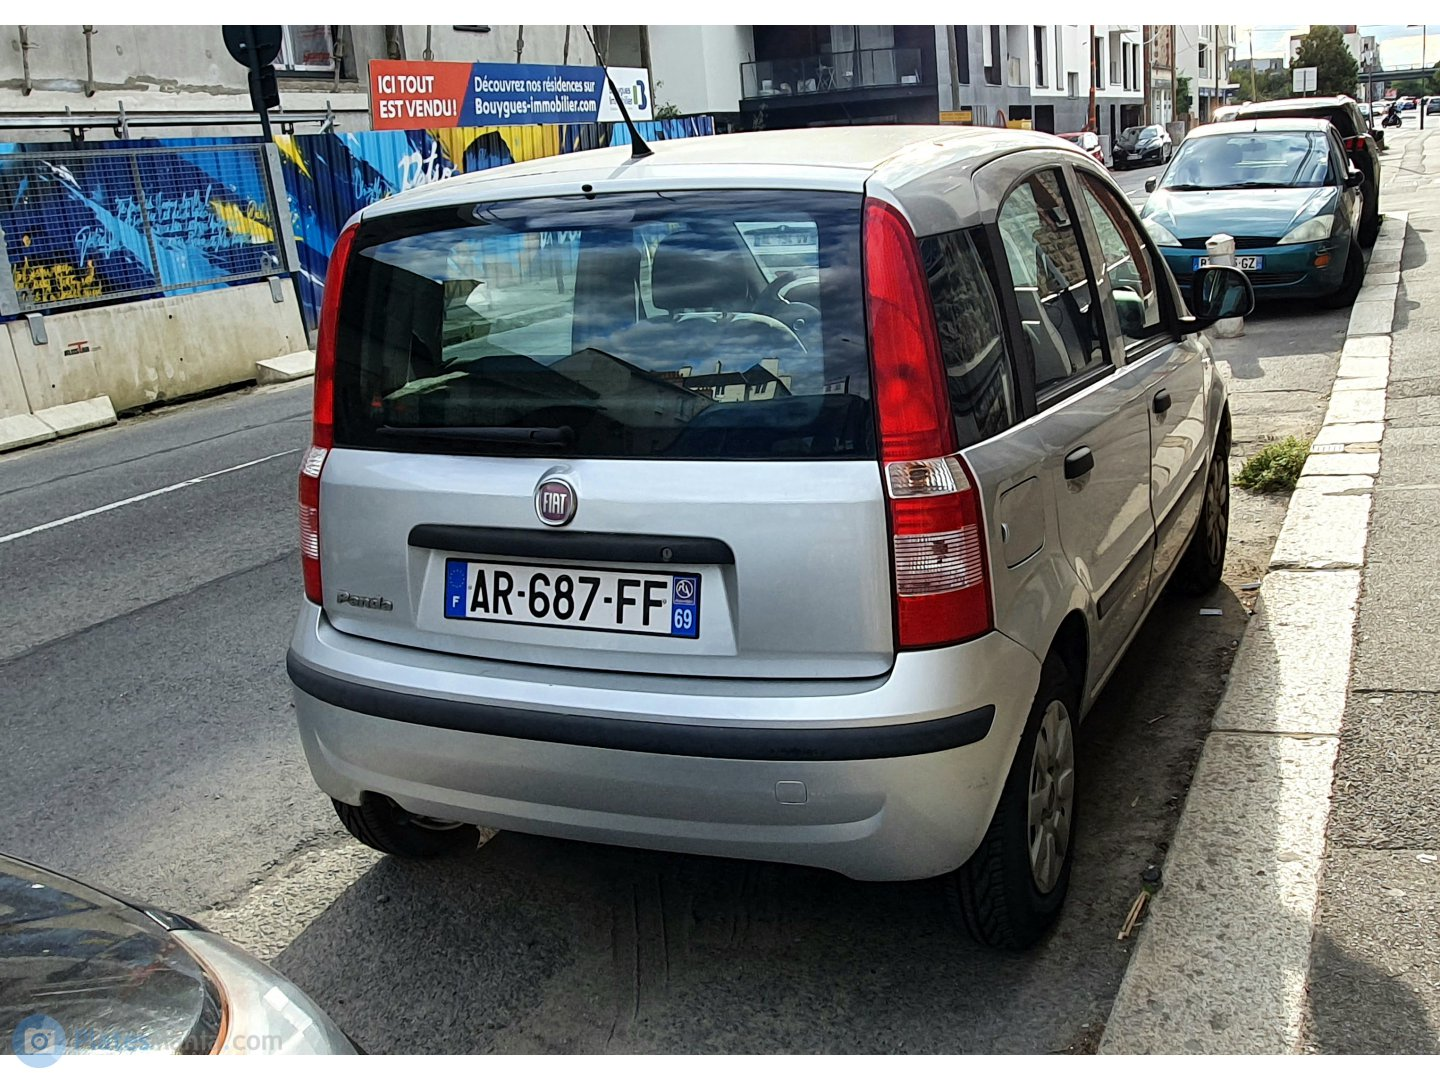licence plate: (439, 554, 705, 644)
